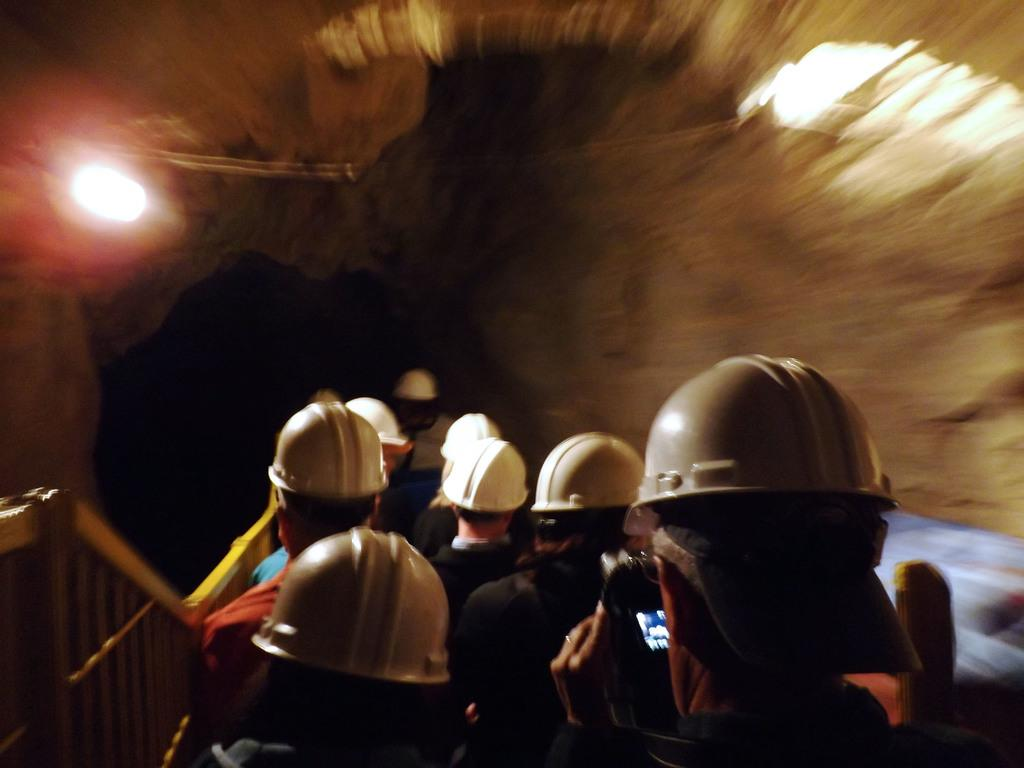helmet: (623, 353, 902, 618), (251, 526, 450, 745), (268, 401, 389, 548), (530, 431, 660, 563), (442, 437, 529, 535), (327, 396, 409, 489), (440, 413, 508, 492), (391, 368, 440, 422)
